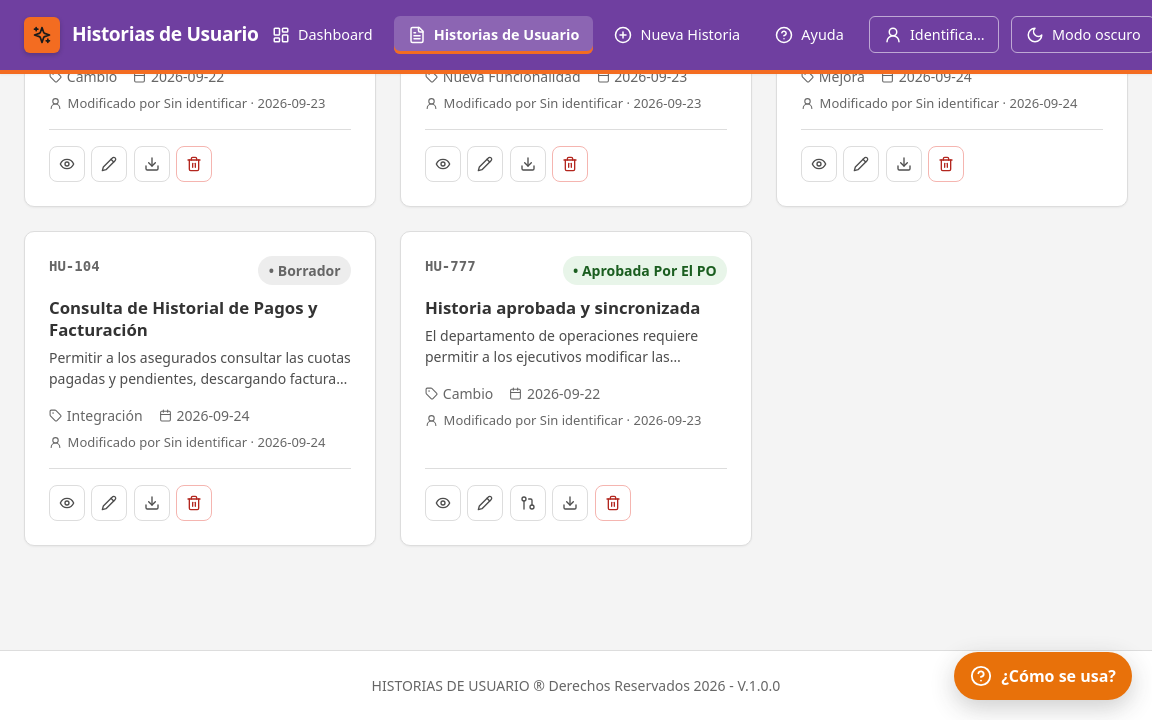
Test: eliminar historias › si el repositorio no responde, no borra nada y explica el motivo
(page scrolled)
Click the button named "Eliminar historia HU-777": {"x": 613, "y": 503} [595,485,631,521]
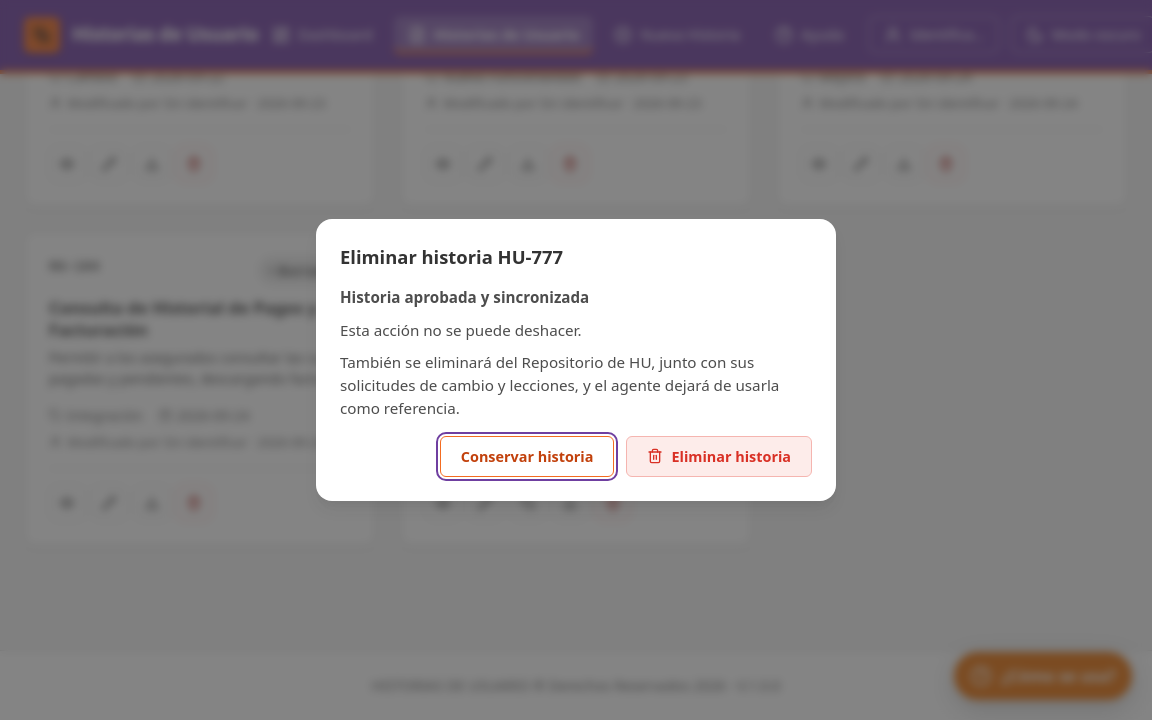
Click the button "Eliminar historia": {"x": 719, "y": 456} [626,436,812,477]
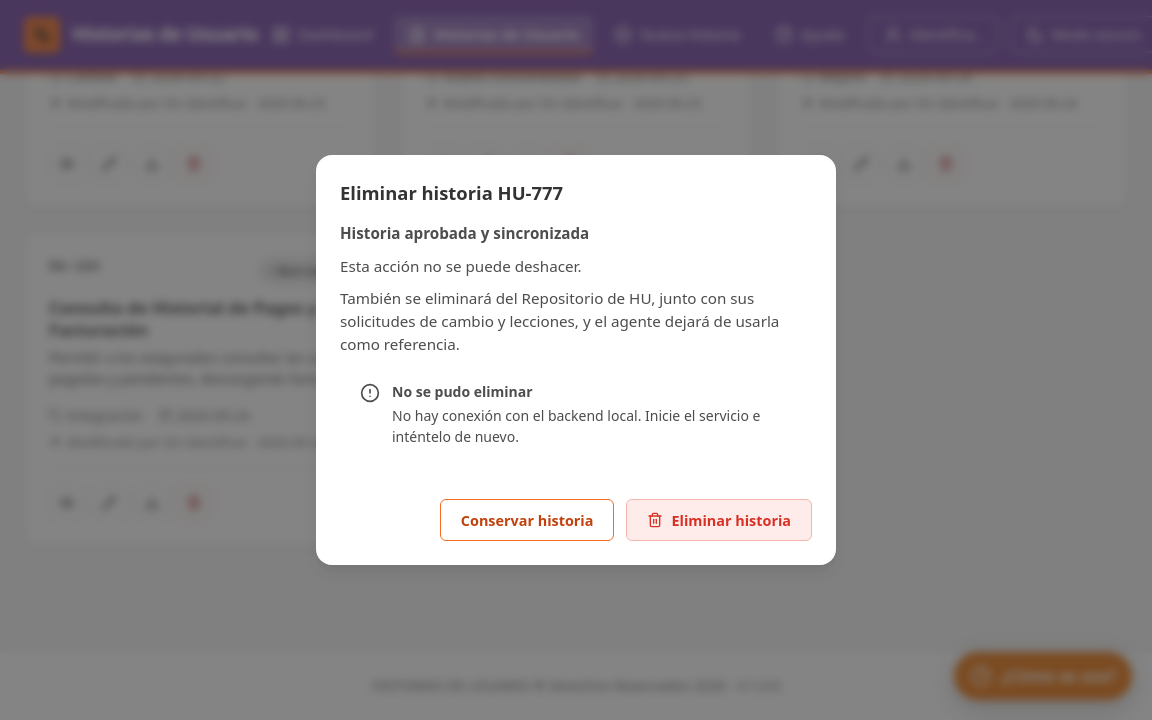
Expected: the text "HU-777" is shown, [425,256,476,277]
Expected: the text "No hay conexión con el backend local" is shown, [392,406,760,446]
